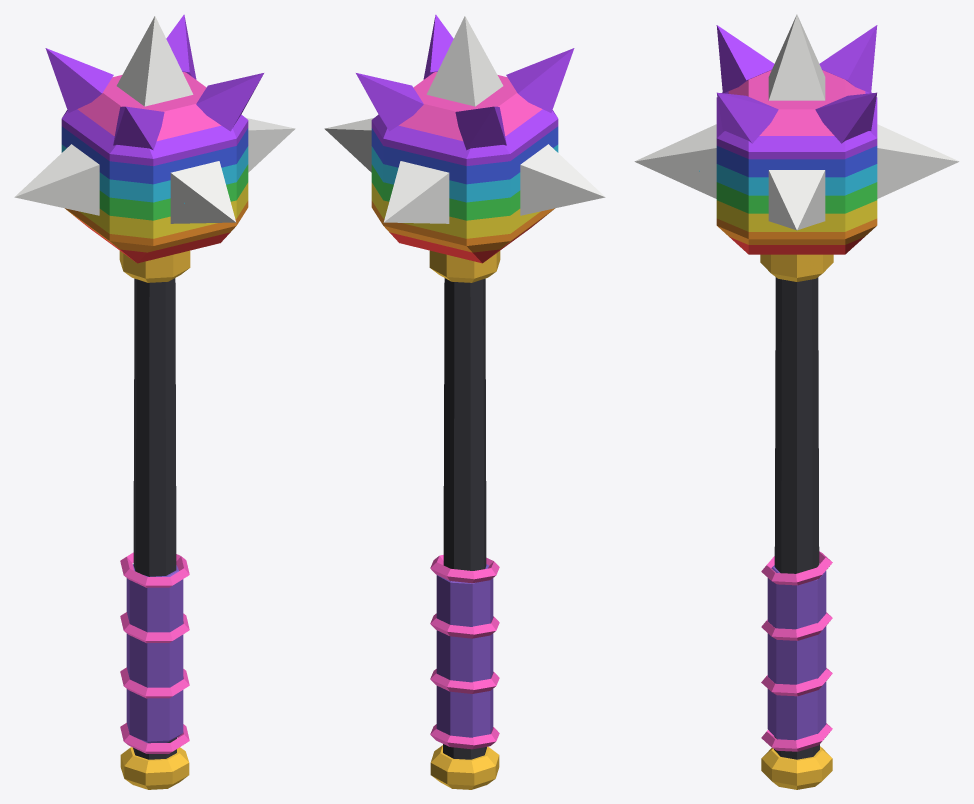
The model's file is RainbowMace.fbx.
The picture shows the model from 3 angles, left to right: view 1: azimuth 30°, elevation 25°; view 2: azimuth 150°, elevation 25°; view 3: azimuth 270°, elevation 25°; orthographic projection.
Visible parts, largest first — view 1: RainbowMace; view 2: RainbowMace; view 3: RainbowMace.
Part boxes in pixels (bbox=[...]): RainbowMace: bbox=[14, 14, 295, 789]; RainbowMace: bbox=[324, 14, 605, 789]; RainbowMace: bbox=[634, 14, 959, 789].
Size of the model in its own units: 1.42 by 3.68 by 1.42.
1 material, 1 textured.
